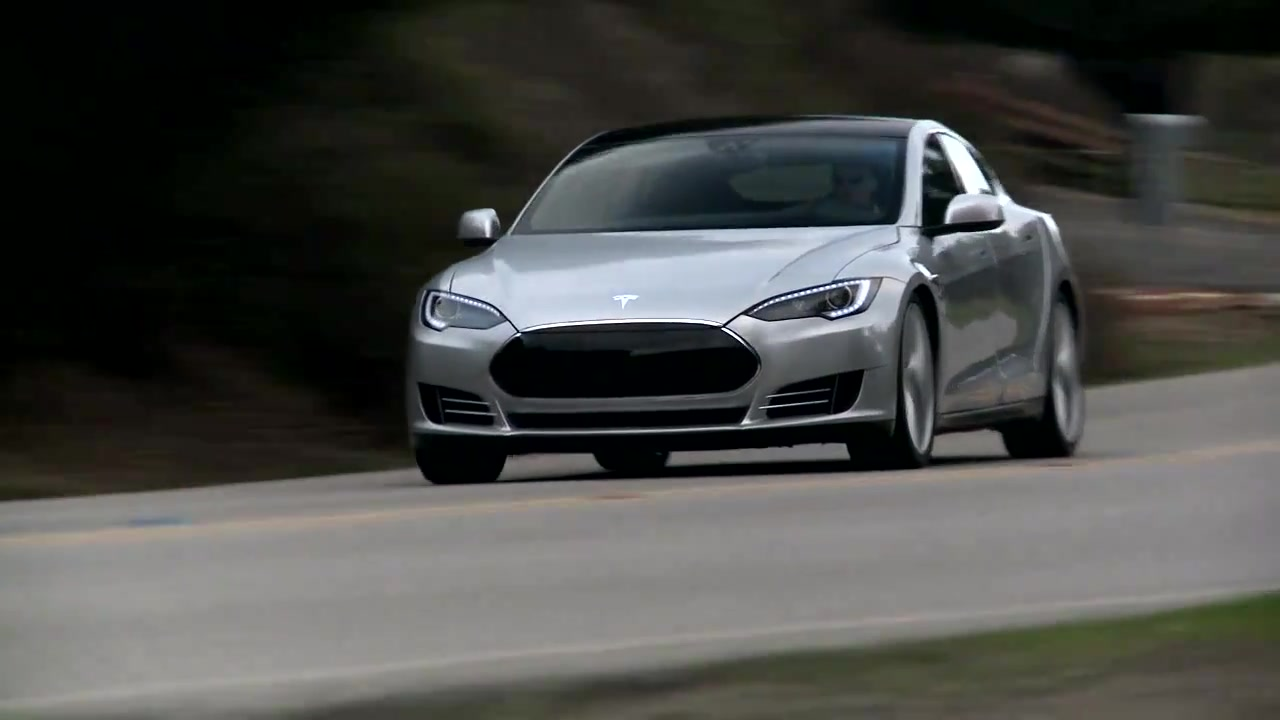car: (390, 110, 1097, 487)
